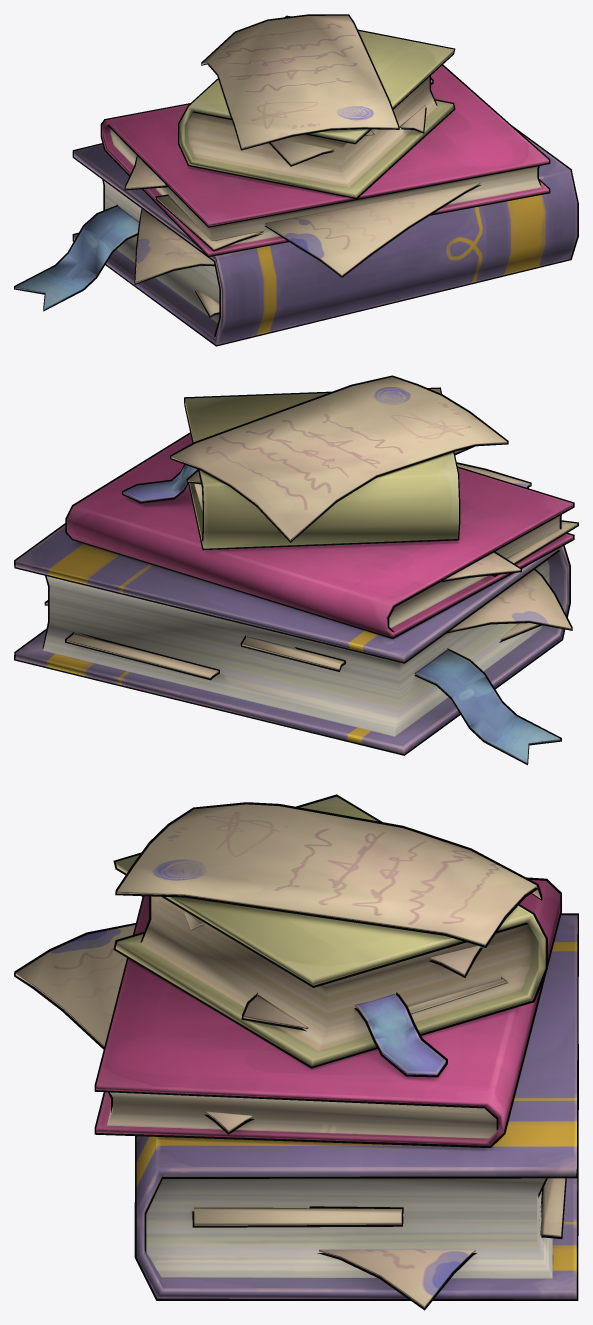
The model's file is stylized_magic_books.glb.
3 renders of one model, top to bottom at view 1: azimuth 30°, elevation 25°; view 2: azimuth 150°, elevation 25°; view 3: azimuth 270°, elevation 25°, orthographic. The views are drawn at different scales.
Parts seen in each view (by area): view 1: e2e_1; view 2: e2e_1; view 3: e2e_1.
Boxes of the visible parts, <box> form: e2e_1: <box>14,14,578,346</box>; e2e_1: <box>14,375,578,765</box>; e2e_1: <box>14,794,578,1310</box>.
Bounding box in the file's own units: 6.48 × 2.69 × 4.64.
Materials: 2 (1 with a texture image).
